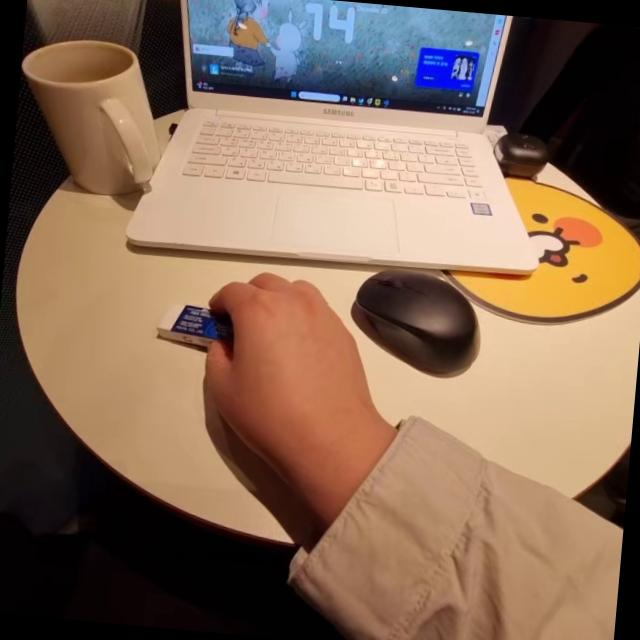eraser: (152, 291, 237, 349)
grab_eraser: (145, 263, 380, 490)
hand: (192, 264, 364, 480)
mouse: (349, 248, 503, 380)
